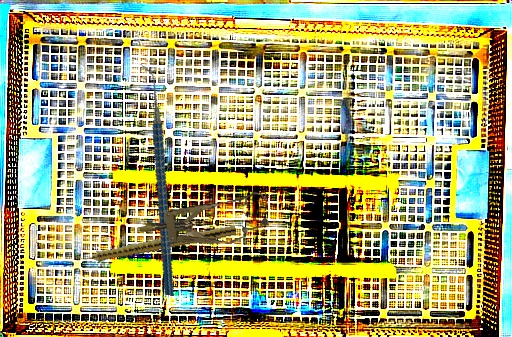Chopper: (82, 63, 230, 297)
Handpiece: (75, 221, 237, 267)
Speculum: (136, 188, 272, 255)
